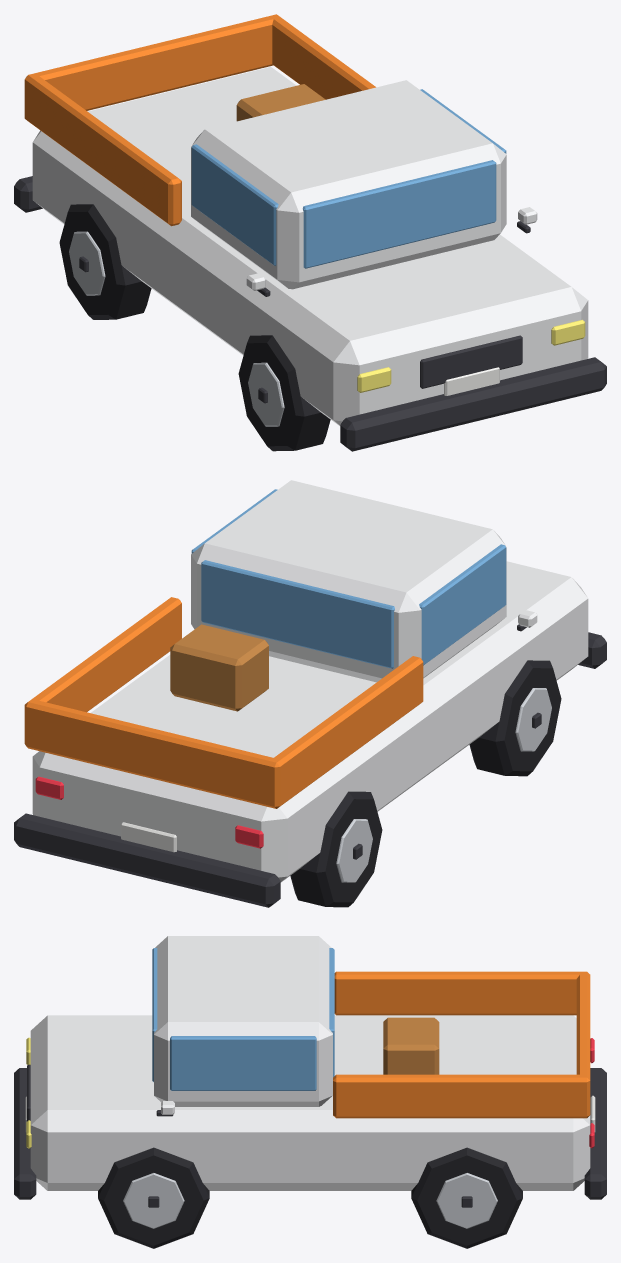
File: WhitePickupTruck.fbx
3 views of the same model, one above another, from view 1: azimuth 30°, elevation 25°; view 2: azimuth 150°, elevation 25°; view 3: azimuth 270°, elevation 25° (orthographic). The views are drawn at different scales.
Parts seen in each view (by area): view 1: WhitePickupTruck, WhitePickupTruck_WheelBR, WhitePickupTruck_WheelFR; view 2: WhitePickupTruck, WhitePickupTruck_WheelBR, WhitePickupTruck_WheelFR; view 3: WhitePickupTruck, WhitePickupTruck_WheelBL, WhitePickupTruck_WheelFL.
Part boxes in pixels (x1=…): WhitePickupTruck: x1=14, y1=14, x2=606, y2=451; WhitePickupTruck_WheelBR: x1=59, y1=204, x2=151, y2=319; WhitePickupTruck_WheelFR: x1=238, y1=335, x2=330, y2=451; WhitePickupTruck: x1=14, y1=480, x2=606, y2=907; WhitePickupTruck_WheelBR: x1=290, y1=791, x2=382, y2=907; WhitePickupTruck_WheelFR: x1=469, y1=660, x2=561, y2=776; WhitePickupTruck: x1=14, y1=936, x2=606, y2=1199; WhitePickupTruck_WheelBL: x1=411, y1=1147, x2=522, y2=1248; WhitePickupTruck_WheelFL: x1=98, y1=1147, x2=209, y2=1248.
Size of the model in its own units: 5.15 by 4.25 by 10.6.
1 material, 1 textured.
